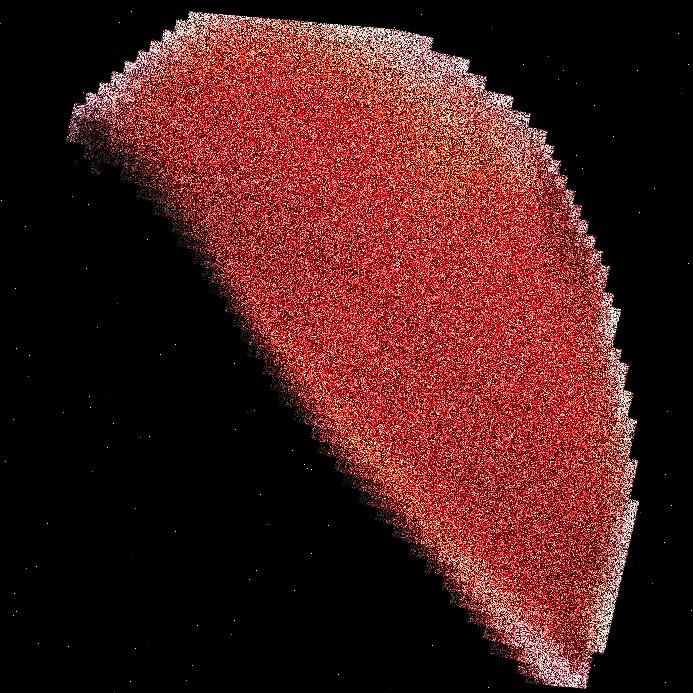Capacete: (251, 0, 629, 692)
